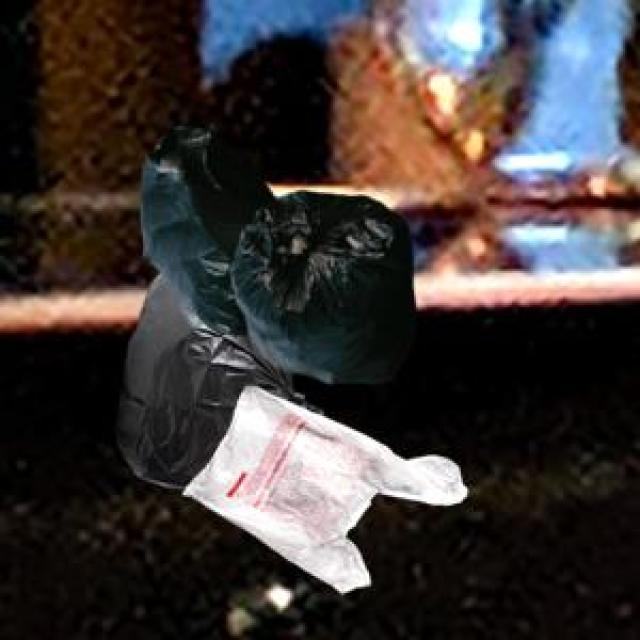miscellaneous trash: (137, 122, 412, 380), (179, 382, 463, 589), (111, 269, 320, 484)
